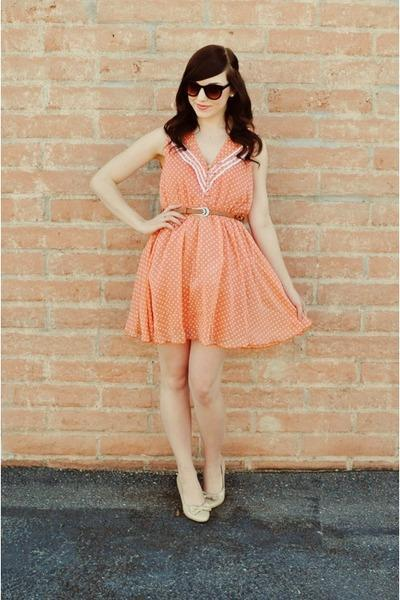dress: (125, 132, 308, 360)
shoe: (182, 468, 224, 521)
